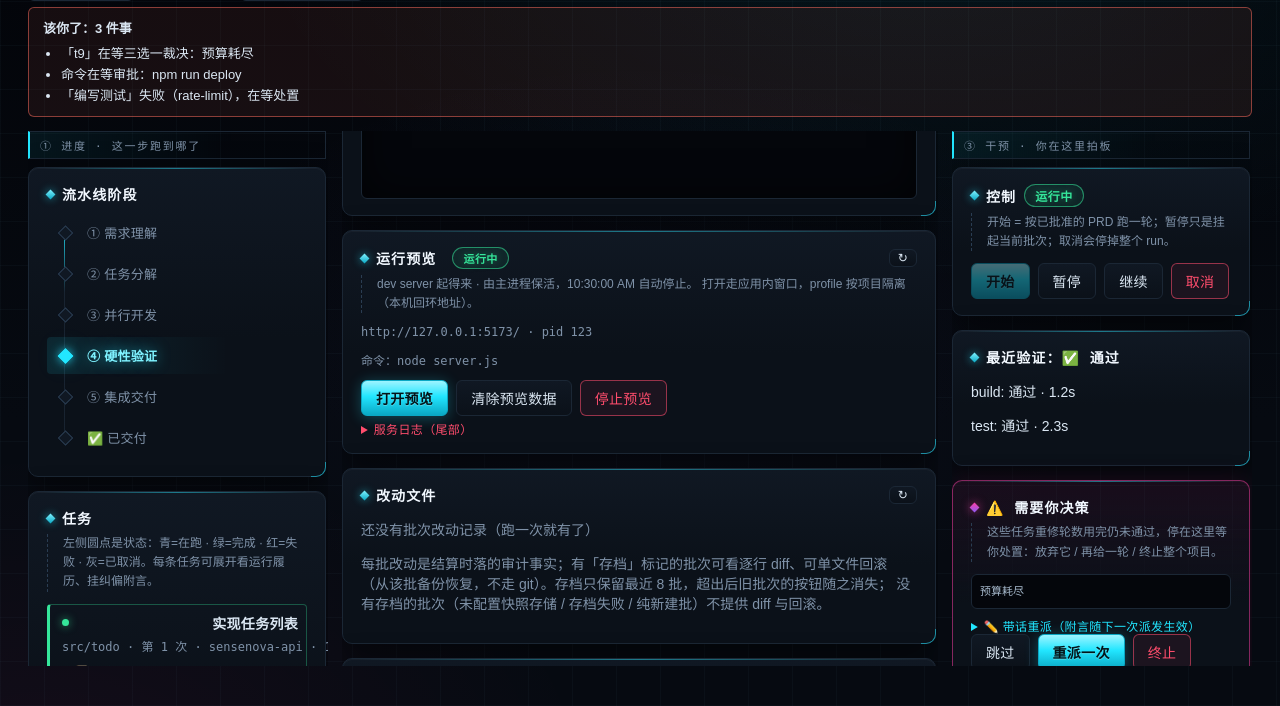
Test: BoardPage › 运行预览（preview:status/open/stop） › 清除预览数据走桥，并把结果说出来（不是静默成功）
(page scrolled)
Expected: the heading "运行预览 运行中 ↻" is shown, [361, 247, 917, 269]
Click the button "清除预览数据": [514, 398] box [456, 380, 572, 416]
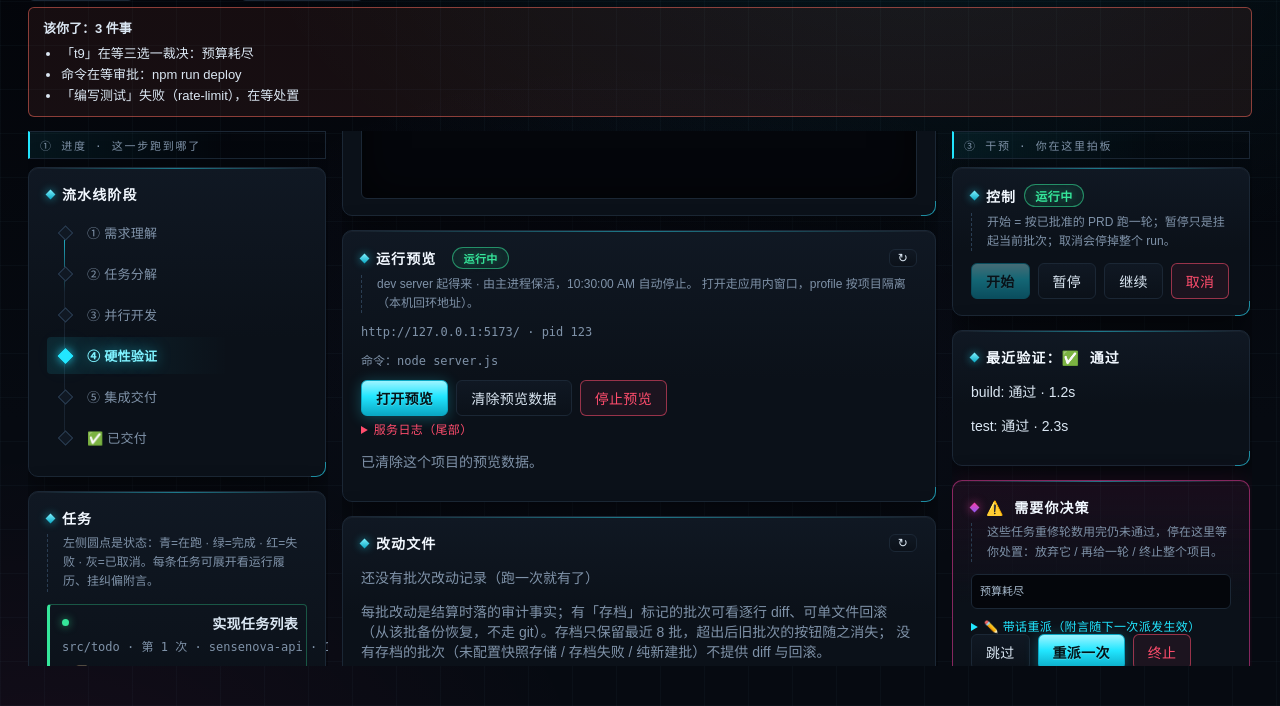
Expected: the text "已清除这个项目的预览数据。" is shown, [361, 454, 543, 470]
Click the button "清除预览数据": [514, 398] box [456, 380, 572, 416]
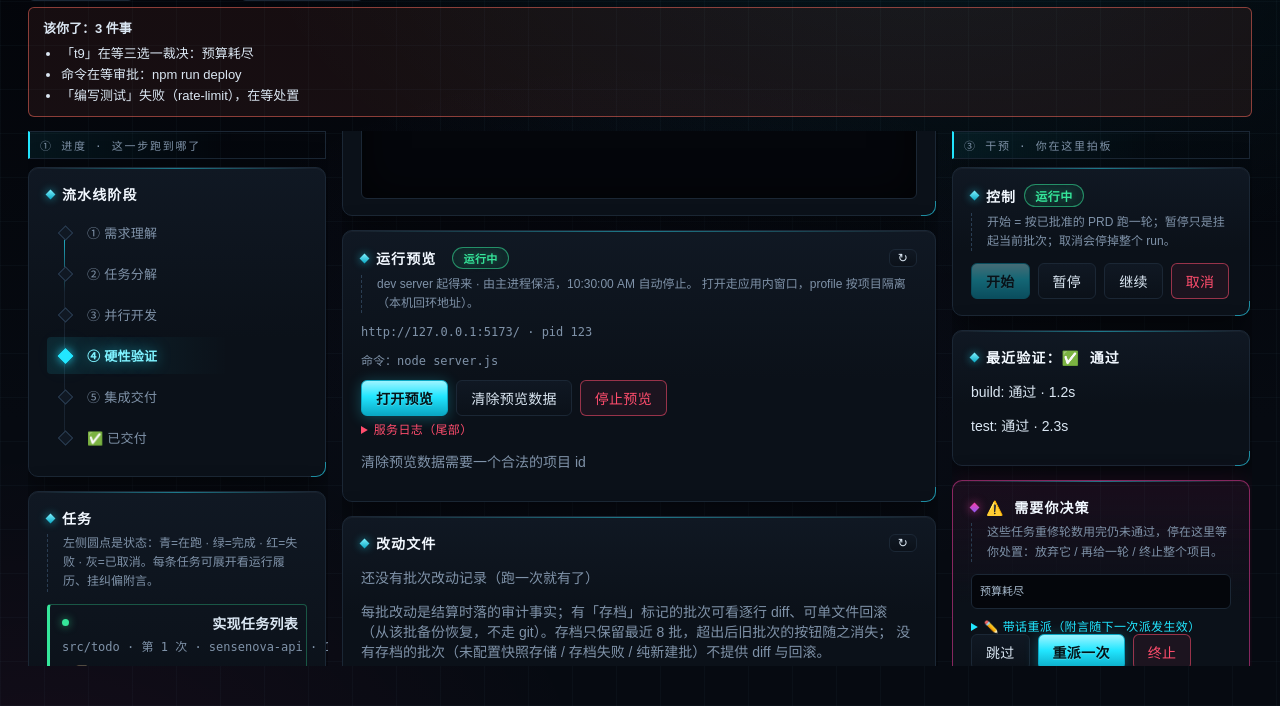
Expected: the text "清除预览数据需要一个合法的项目 id" is shown, [361, 454, 586, 470]
